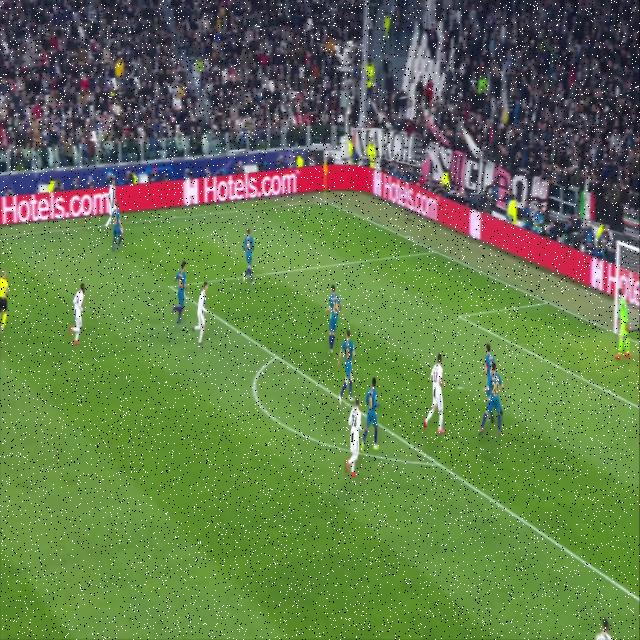GoalKeeper: (614, 293, 633, 360)
TEAM 1: (424, 352, 449, 440), (345, 403, 366, 480), (192, 279, 214, 348), (70, 284, 86, 347), (105, 174, 116, 230), (591, 618, 617, 639)
TEAM 2: (484, 362, 506, 436), (364, 380, 382, 450), (338, 333, 356, 401), (169, 261, 188, 325), (328, 284, 343, 349), (241, 228, 254, 286), (110, 214, 126, 255), (483, 338, 494, 373)
